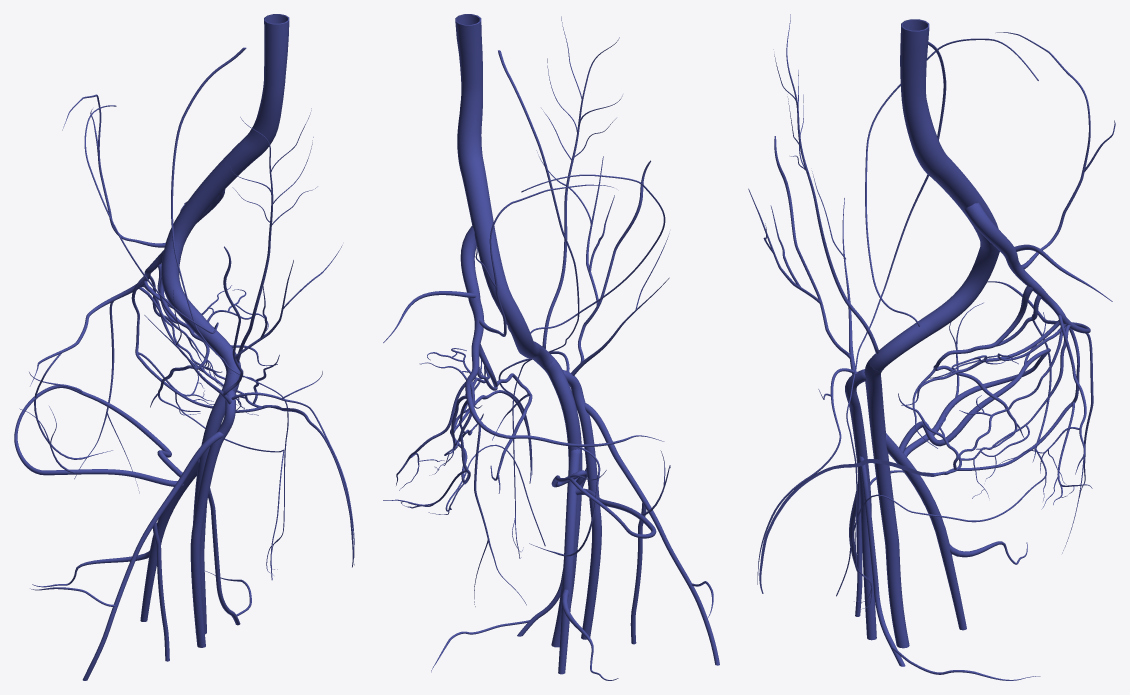
Rendered from open3d-inguinal-canal-venous-01.glb.
3 renders of one model, left to right at view 1: azimuth 30°, elevation 25°; view 2: azimuth 150°, elevation 25°; view 3: azimuth 270°, elevation 25°, orthographic. The views are drawn at different scales.
Parts seen in each view (by area): view 1: O3D_4417ff6cc15e54, O3D_94e62f15be9ba7, O3D_8ad385d5508aa0, O3D_2d78e433bbaeba, O3D_8c6b3edd4a1935, O3D_3144e43e4762ca, O3D_a1c21675d35aaf, O3D_d384c4a641425d, O3D_899f6f0e23b744, O3D_fb4c7856d4818e, O3D_a7589356b13c04, O3D_d63467953aa9cf (+8 smaller); view 2: O3D_4417ff6cc15e54, O3D_8ad385d5508aa0, O3D_94e62f15be9ba7, O3D_2d78e433bbaeba, O3D_a1c21675d35aaf, O3D_3144e43e4762ca, O3D_f5ece3cbd8dd84, O3D_a7589356b13c04, O3D_fb4c7856d4818e, O3D_8c6b3edd4a1935, O3D_d63467953aa9cf, O3D_88d55d004f76ac (+5 smaller); view 3: O3D_4417ff6cc15e54, O3D_2d78e433bbaeba, O3D_8c6b3edd4a1935, O3D_8ad385d5508aa0, O3D_a1c21675d35aaf, O3D_f5ece3cbd8dd84, O3D_d63467953aa9cf, O3D_834e0edcff6420, O3D_a7589356b13c04, O3D_fb4c7856d4818e, O3D_899f6f0e23b744, O3D_3144e43e4762ca (+13 smaller).
Boxes of the visible parts, box(x1,y1,x2,y2) form: O3D_4417ff6cc15e54: box(161, 14, 289, 338); O3D_94e62f15be9ba7: box(30, 431, 223, 680); O3D_8ad385d5508aa0: box(190, 390, 235, 647); O3D_2d78e433bbaeba: box(193, 373, 239, 634); O3D_8c6b3edd4a1935: box(139, 281, 279, 415); O3D_3144e43e4762ca: box(30, 280, 147, 493); O3D_a1c21675d35aaf: box(140, 459, 199, 621); O3D_d384c4a641425d: box(14, 406, 183, 486); O3D_899f6f0e23b744: box(14, 372, 182, 477); O3D_fb4c7856d4818e: box(230, 108, 317, 363); O3D_a7589356b13c04: box(223, 245, 342, 395); O3D_d63467953aa9cf: box(150, 263, 241, 411); O3D_4417ff6cc15e54: box(455, 14, 539, 358); O3D_8ad385d5508aa0: box(563, 370, 601, 639); O3D_94e62f15be9ba7: box(584, 403, 719, 665); O3D_2d78e433bbaeba: box(542, 357, 582, 647); O3D_a1c21675d35aaf: box(558, 449, 580, 674); O3D_3144e43e4762ca: box(465, 385, 664, 606); O3D_f5ece3cbd8dd84: box(460, 226, 484, 385); O3D_a7589356b13c04: box(536, 150, 650, 362); O3D_fb4c7856d4818e: box(541, 16, 622, 348); O3D_8c6b3edd4a1935: box(419, 348, 489, 475); O3D_d63467953aa9cf: box(477, 344, 532, 493); O3D_88d55d004f76ac: box(475, 184, 613, 336); O3D_4417ff6cc15e54: box(900, 19, 999, 335); O3D_2d78e433bbaeba: box(864, 358, 909, 648); O3D_8c6b3edd4a1935: box(898, 320, 1070, 498); O3D_8ad385d5508aa0: box(845, 369, 876, 640); O3D_a1c21675d35aaf: box(886, 433, 966, 630); O3D_f5ece3cbd8dd84: box(964, 203, 1065, 319); O3D_d63467953aa9cf: box(912, 286, 1041, 449); O3D_834e0edcff6420: box(859, 456, 1040, 680); O3D_a7589356b13c04: box(748, 136, 851, 358); O3D_fb4c7856d4818e: box(773, 14, 879, 354); O3D_899f6f0e23b744: box(899, 312, 1050, 452); O3D_3144e43e4762ca: box(987, 281, 1093, 553).
Size of the model in its own units: 0.156 by 0.3514 by 0.176.
